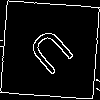U: (25, 25, 83, 85)
